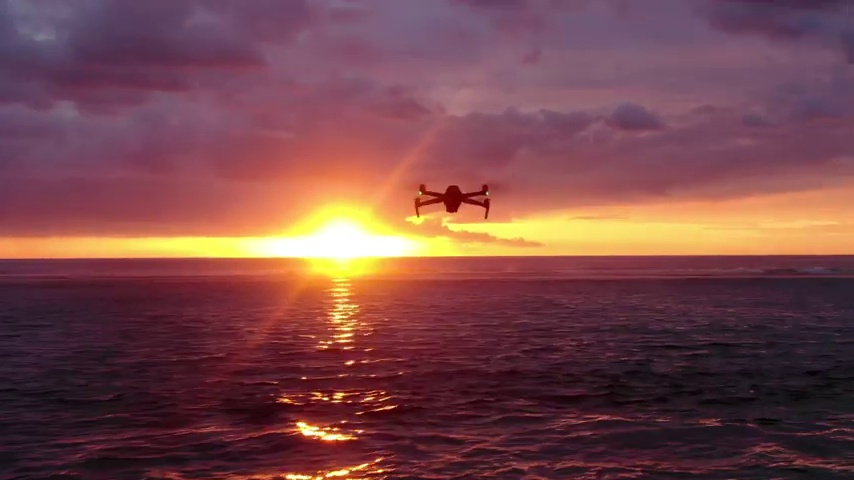drone: (412, 181, 491, 223)
